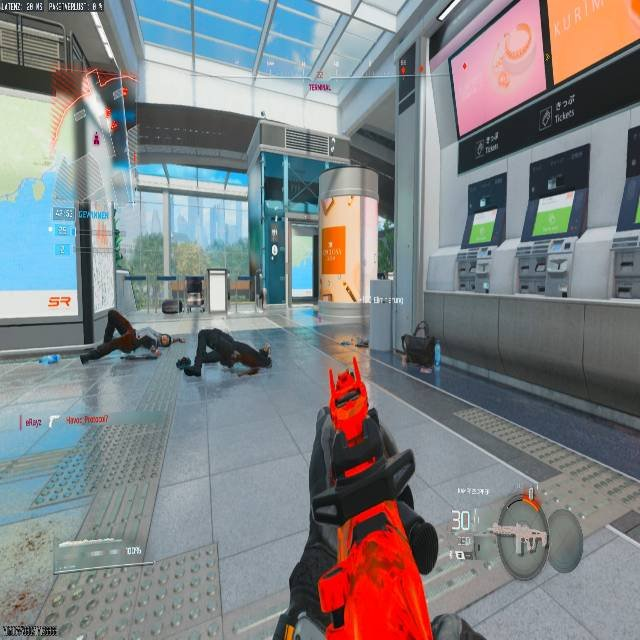head: (159, 334, 171, 347)
